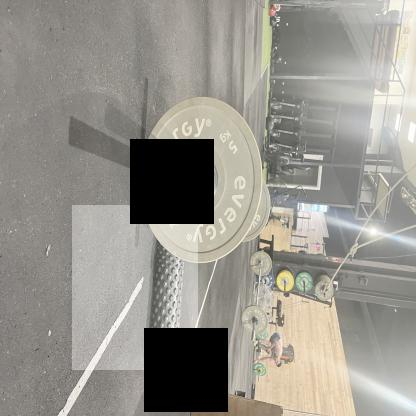barbell: (73, 206, 199, 371)
